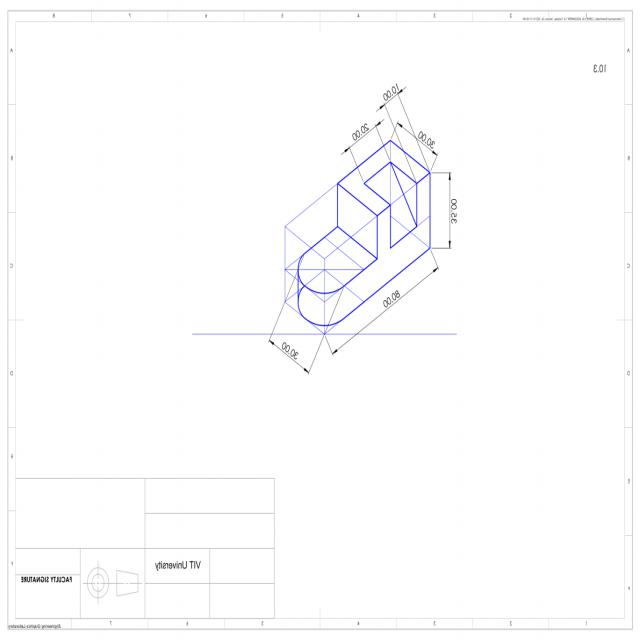Drawings: (262, 79, 458, 377)
